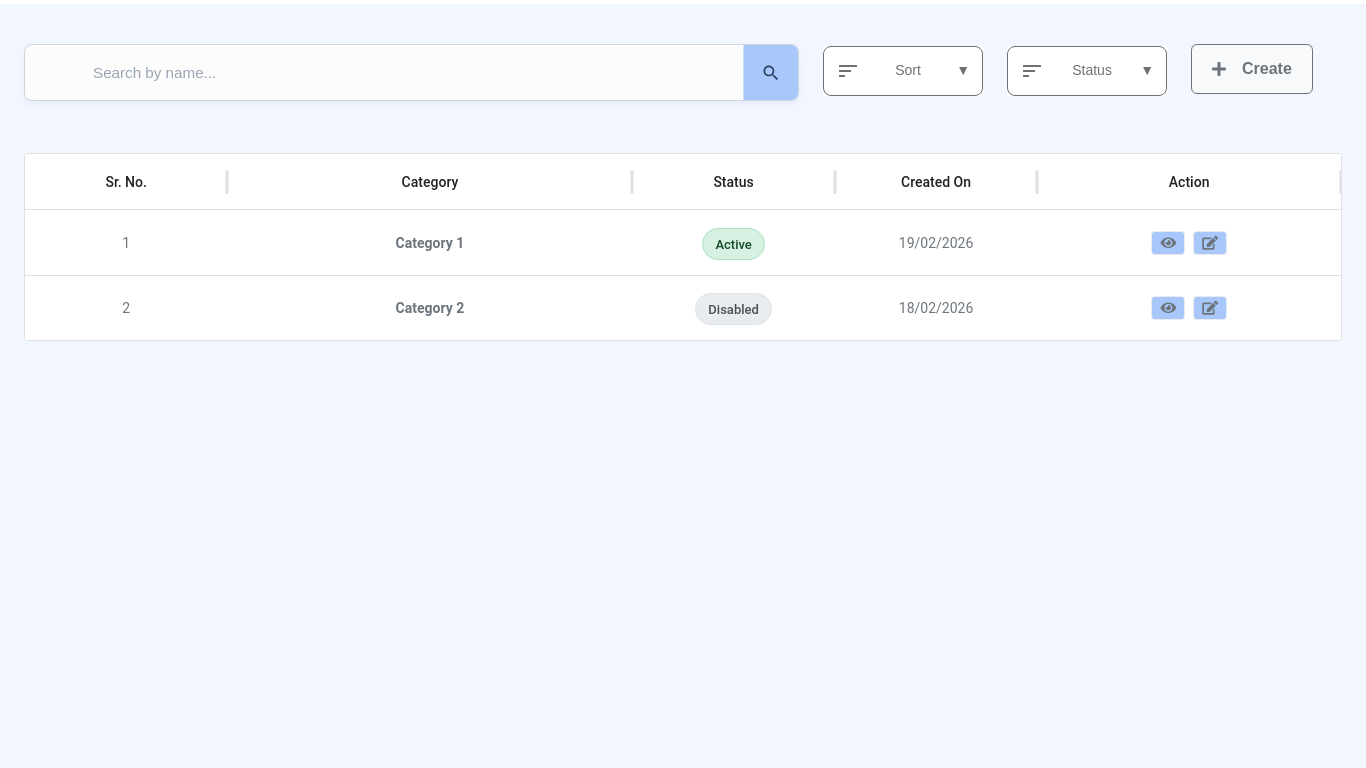
Test case: Testing Organisation Action Item Categories › open and closes View Category modal
Note: Open view modal
Click the button with test id "viewCategoryBtn1": (1168, 243) [1151, 231, 1185, 255]
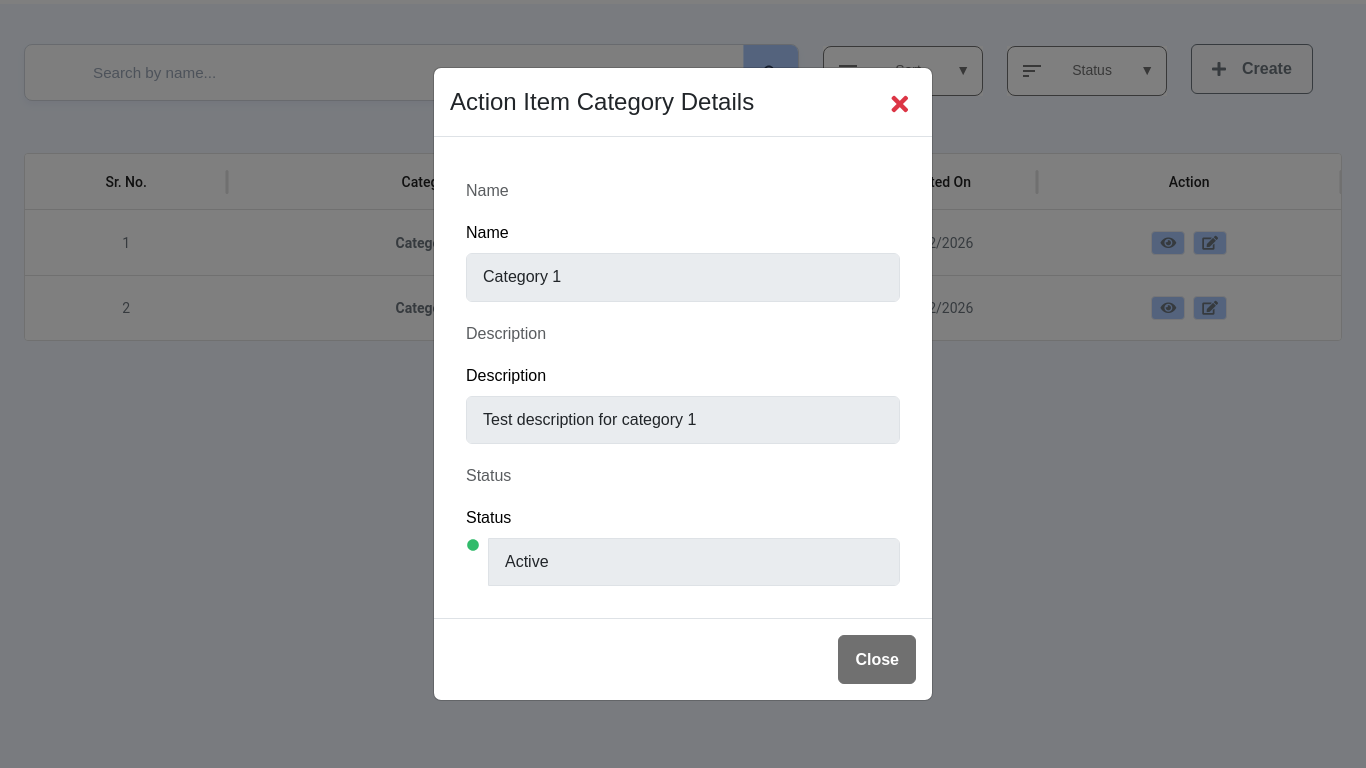
Result: the button with test id "modalCloseBtn" is shown
Note: Close the view modal
Click the button with test id "modalCloseBtn": (900, 104) [884, 84, 916, 124]
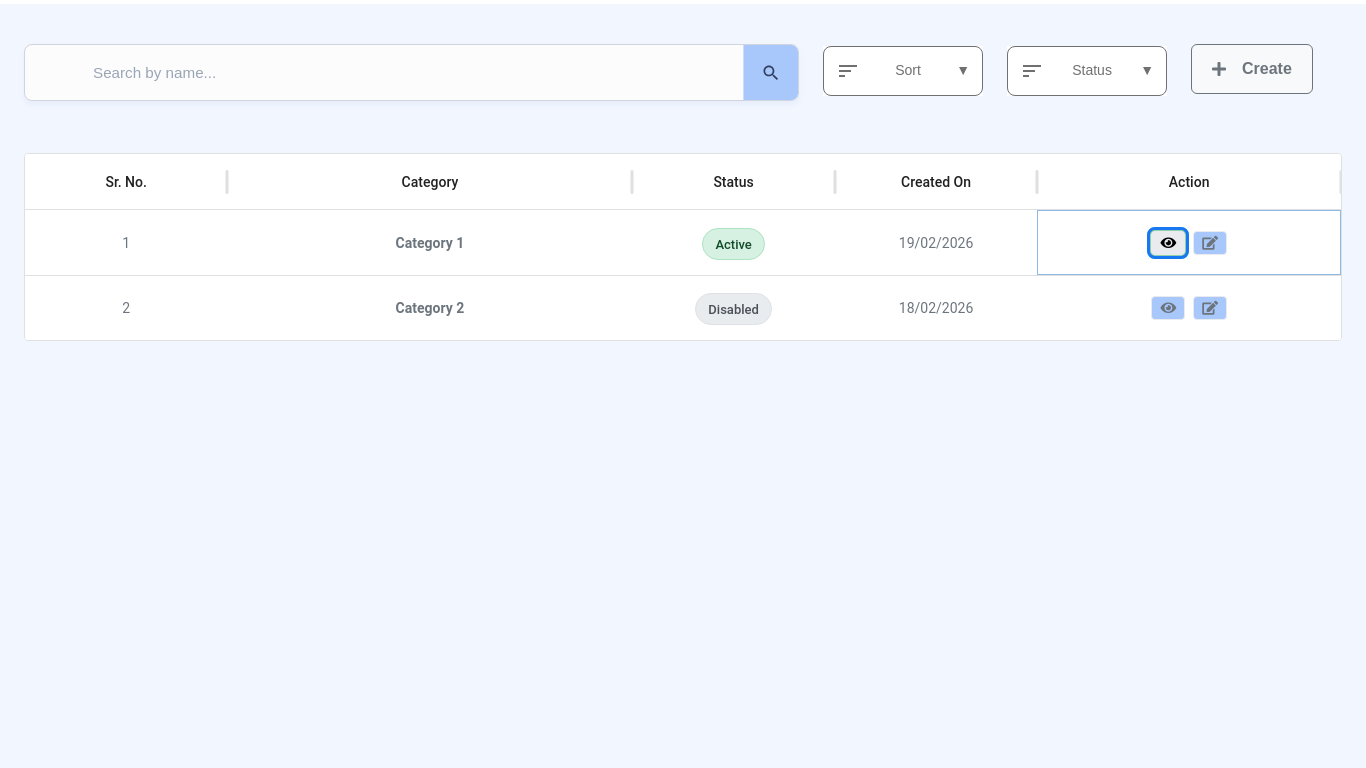
Result: the button with test id "modalCloseBtn" is gone
